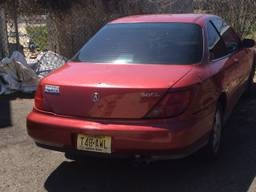acura: (19, 8, 254, 173)
